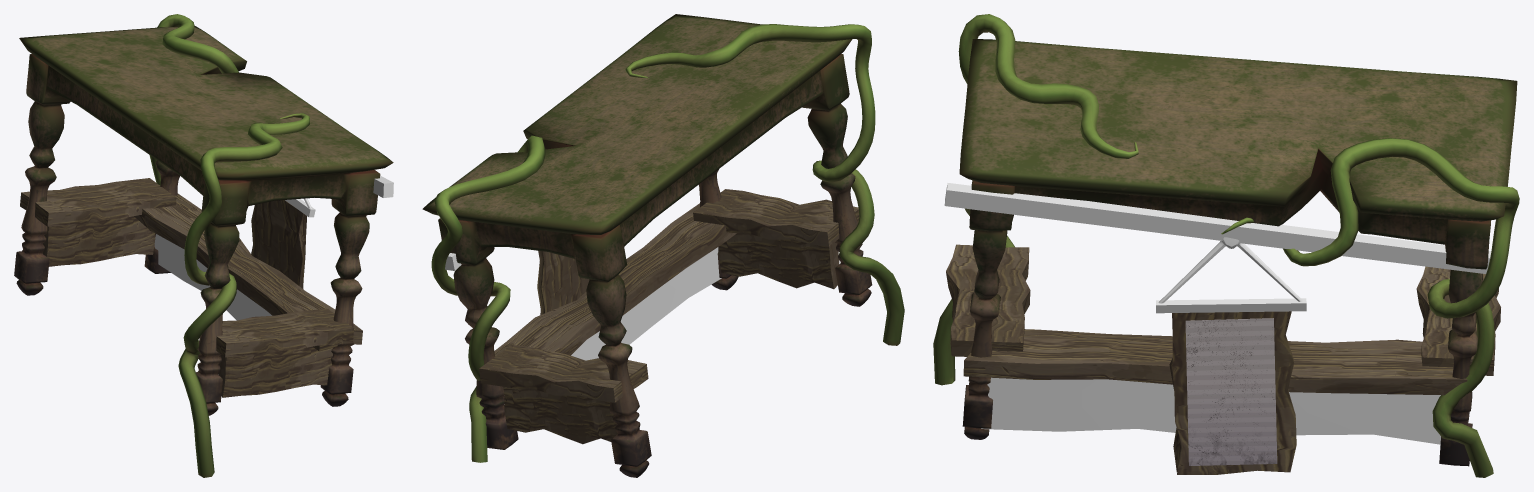
File: CombosStand.fbx
3 views of the same model, side by side, from view 1: azimuth 30°, elevation 25°; view 2: azimuth 150°, elevation 25°; view 3: azimuth 270°, elevation 25° (orthographic). The views are drawn at different scales.
Visible parts, largest first — view 1: MesaCombos, puestoCombos, enredaderasCombos, tablonCombos; view 2: MesaCombos, puestoCombos, enredaderasCombos, tablonCombos; view 3: MesaCombos, puestoCombos, enredaderasCombos, paginaCombos, tablonCombos.
Boxes of the visible parts, bbox=[...] form: MesaCombos: bbox=[14, 25, 393, 415]; puestoCombos: bbox=[20, 176, 393, 397]; enredaderasCombos: bbox=[149, 14, 309, 477]; tablonCombos: bbox=[251, 198, 315, 288]; MesaCombos: bbox=[422, 14, 872, 477]; puestoCombos: bbox=[445, 189, 859, 444]; enredaderasCombos: bbox=[431, 24, 904, 462]; tablonCombos: bbox=[537, 250, 589, 314]; MesaCombos: bbox=[959, 39, 1517, 466]; puestoCombos: bbox=[944, 183, 1500, 444]; enredaderasCombos: bbox=[933, 14, 1519, 477]; paginaCombos: bbox=[1185, 318, 1277, 465]; tablonCombos: bbox=[1156, 237, 1306, 474].
Size of the model in its own units: 398 by 522 by 730.
5 materials, 4 textured.
